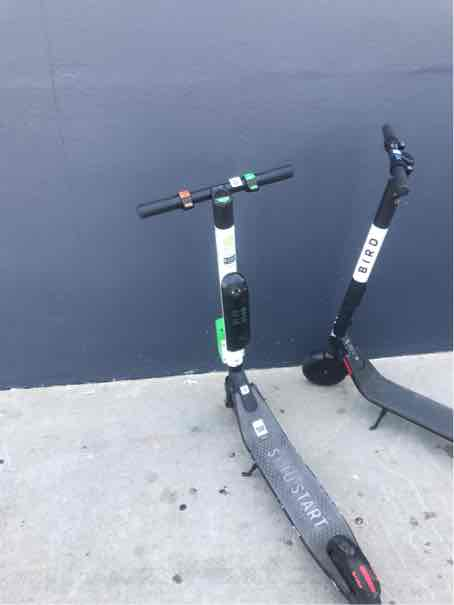scooter: (132, 154, 388, 605)
